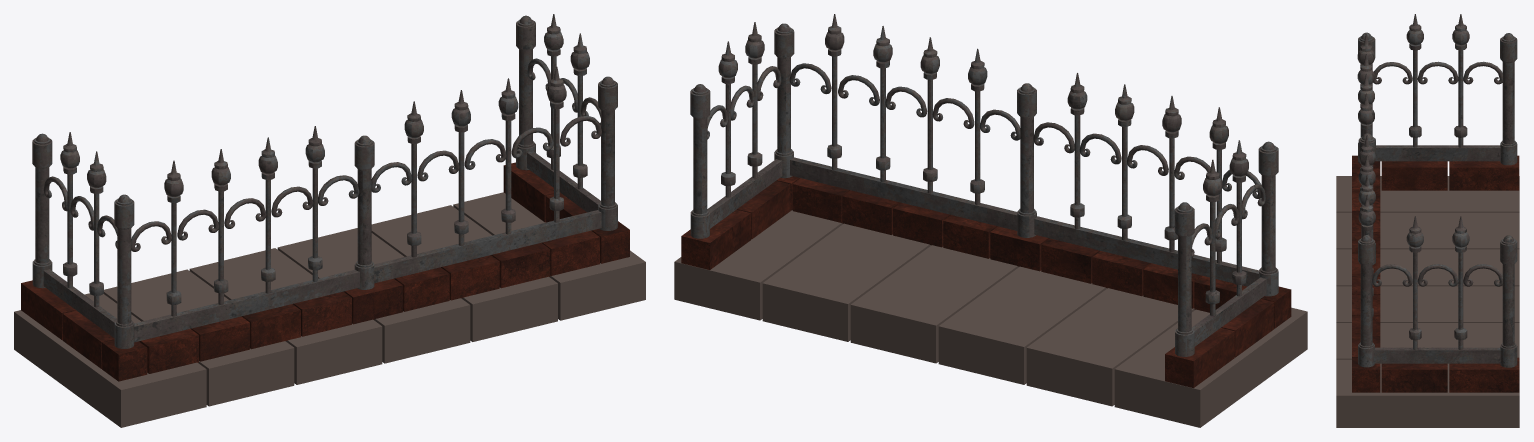
File: SK1 DECOR 1.fbx
3 views of the same model, side by side, from view 1: azimuth 30°, elevation 25°; view 2: azimuth 150°, elevation 25°; view 3: azimuth 270°, elevation 25° (orthographic). The views are drawn at different scales.
Visible parts, largest first — view 1: SK1 DECOR 1.002; view 2: SK1 DECOR 1.002; view 3: SK1 DECOR 1.002.
Part boxes in pixels (bbox=[...]): SK1 DECOR 1.002: bbox=[14, 14, 645, 427]; SK1 DECOR 1.002: bbox=[674, 14, 1307, 427]; SK1 DECOR 1.002: bbox=[1336, 14, 1519, 427].
Bounding box in the file's own units: 371 × 160 × 131.
